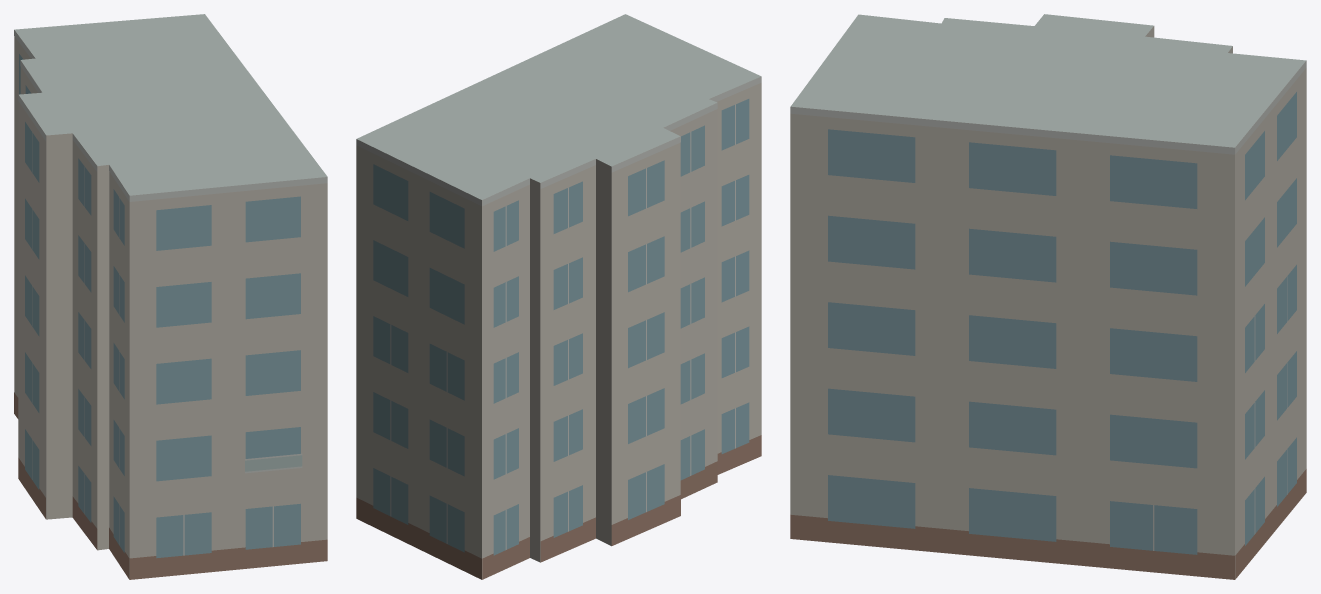
The model's file is survey-upis-32879515.glb.
3 renders of one model, left to right at view 1: azimuth 30°, elevation 25°; view 2: azimuth 150°, elevation 25°; view 3: azimuth 270°, elevation 25°, orthographic. The views are drawn at different scales.
Parts seen in each view (by area): view 1: survey-upis-32879515.tmp; view 2: survey-upis-32879515.tmp; view 3: survey-upis-32879515.tmp.
Part boxes in pixels (x1,y1,x2,y2): survey-upis-32879515.tmp: (14,14,327,579); survey-upis-32879515.tmp: (356,14,761,579); survey-upis-32879515.tmp: (790,14,1306,579).
Bounding box in the file's own units: 9.93 × 14.95 × 16.19.
